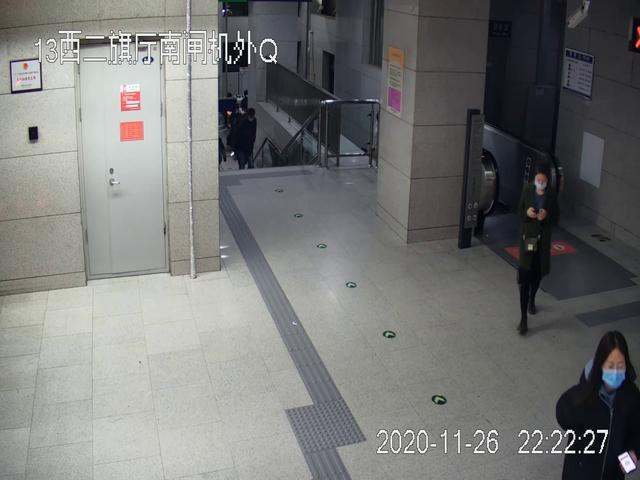person: (555, 332, 640, 480), (515, 165, 557, 337)
